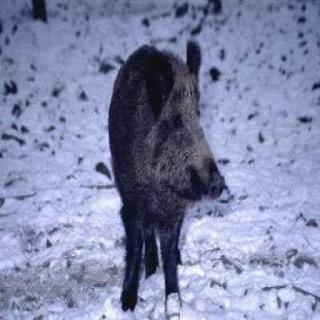Pig: (87, 33, 248, 320)
